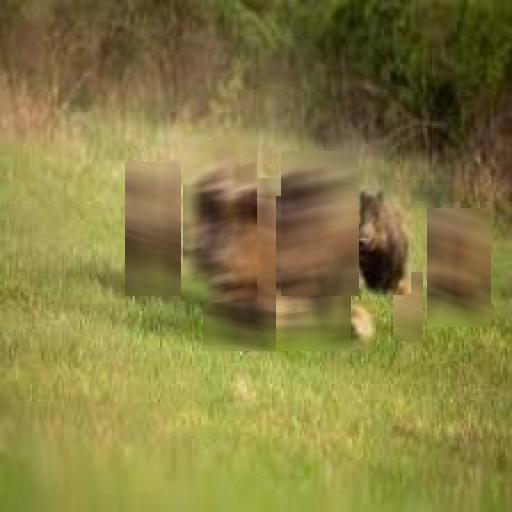Pig: (203, 178, 287, 351), (183, 137, 257, 302), (276, 196, 351, 351), (281, 151, 359, 296), (428, 208, 492, 327), (126, 162, 182, 296), (352, 185, 411, 295), (393, 272, 423, 341), (206, 281, 241, 337), (270, 286, 305, 336), (345, 300, 376, 353)
